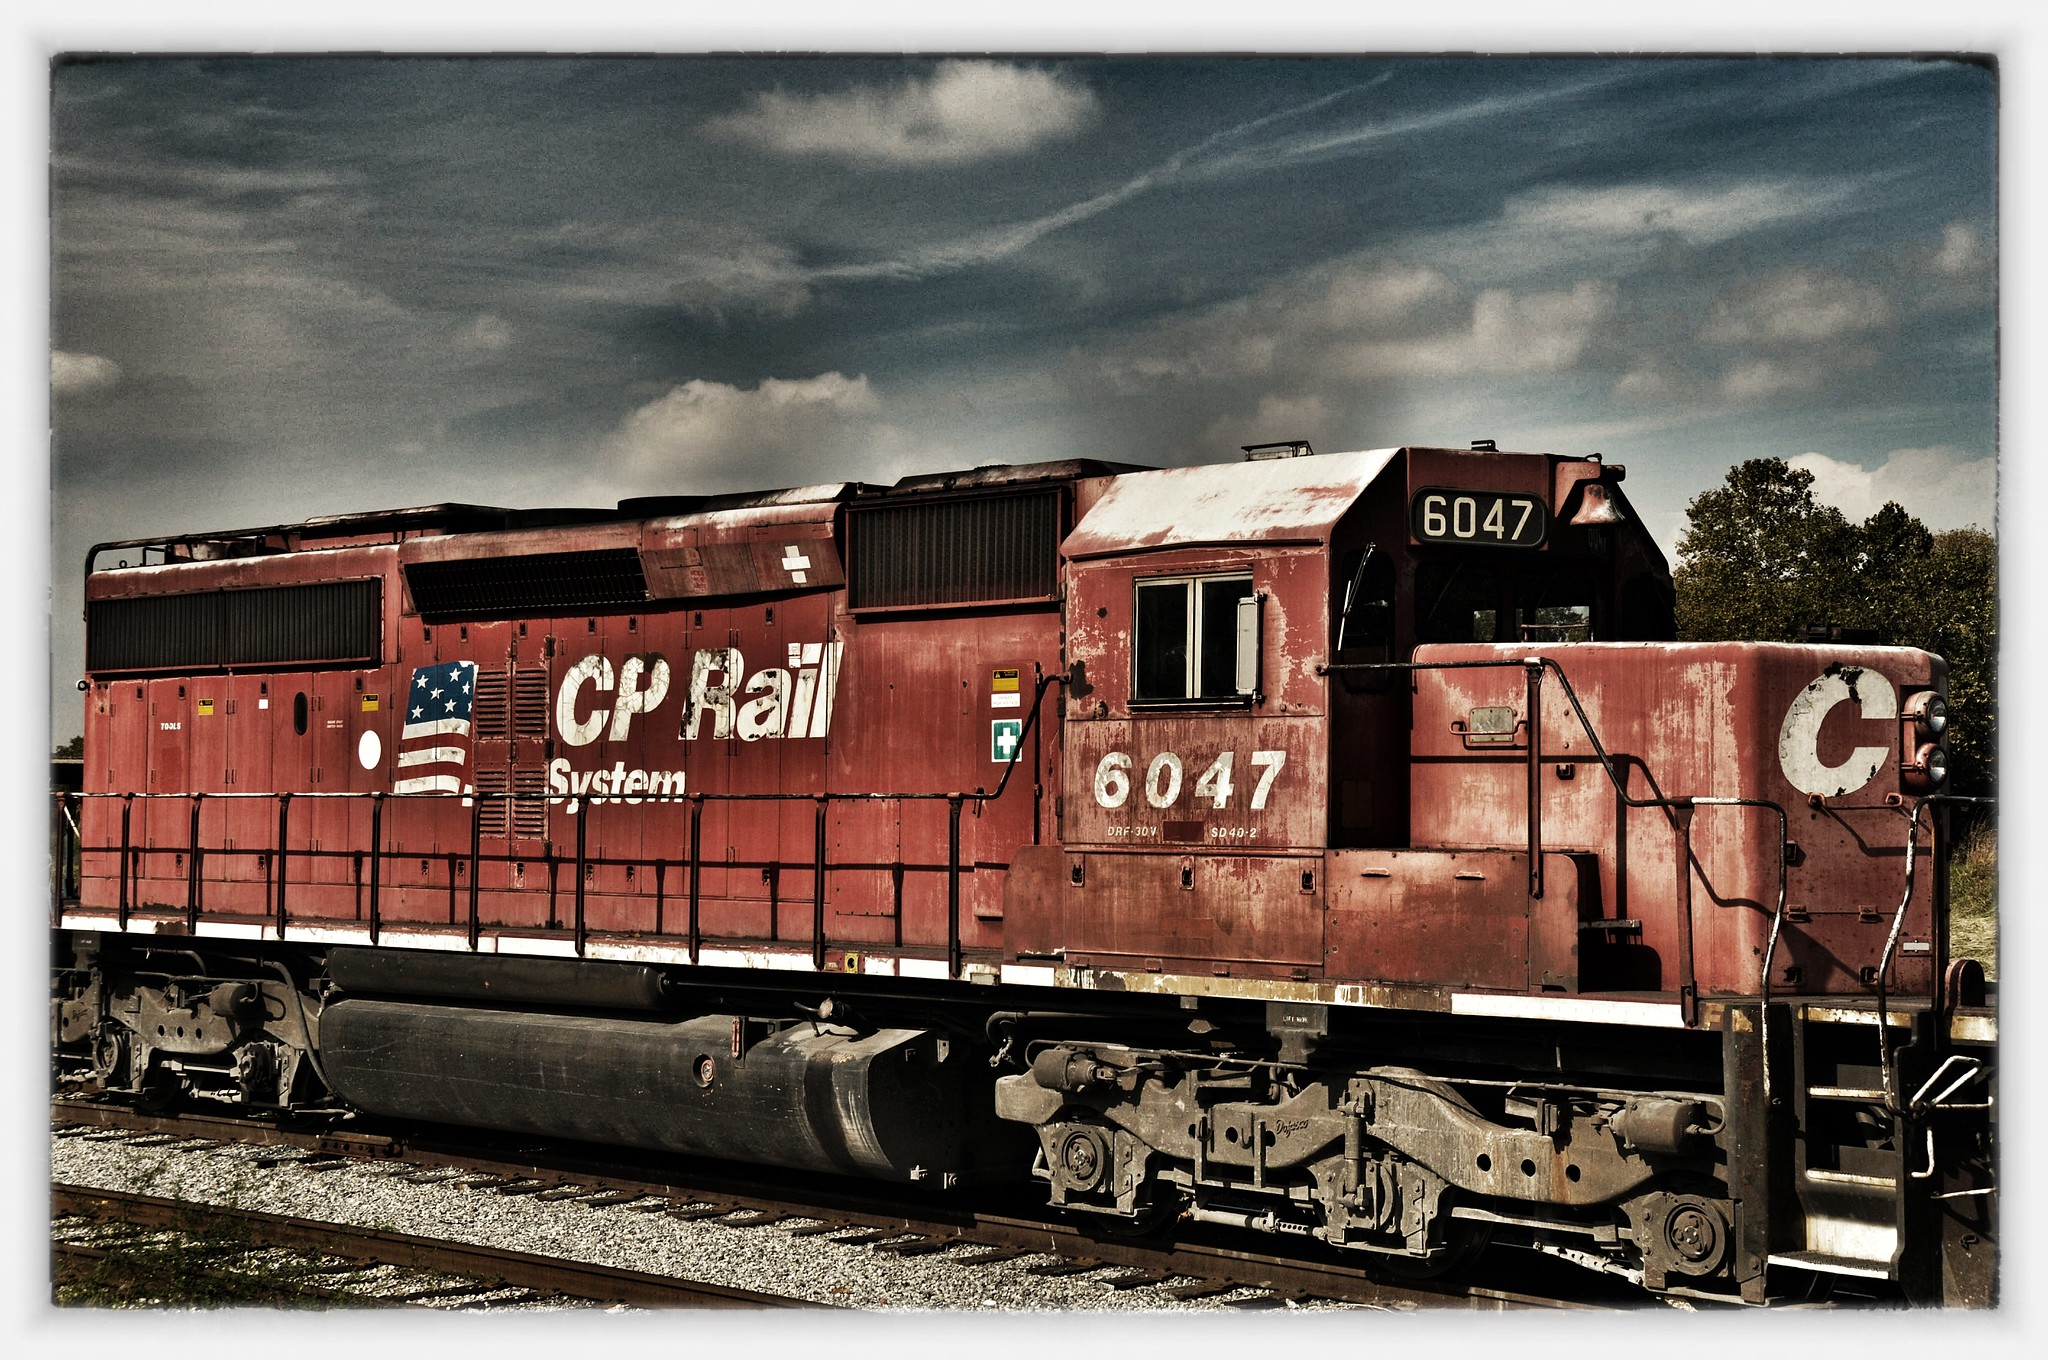train: (90, 427, 1960, 1311)
